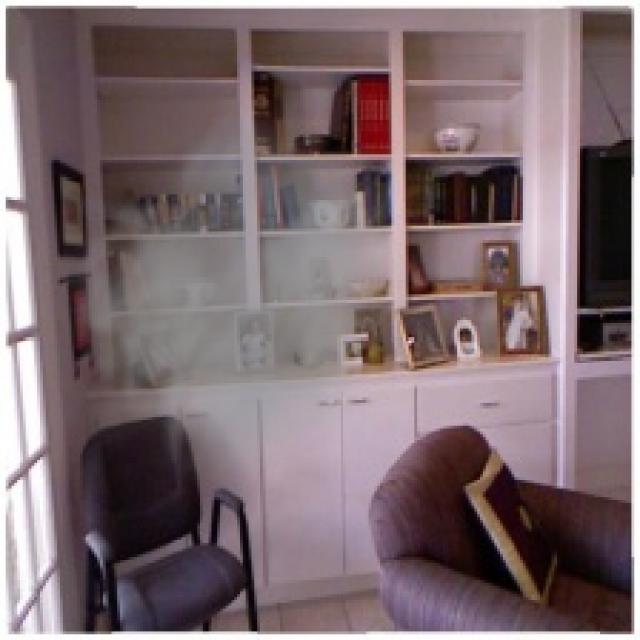smoke: (37, 94, 389, 503)
